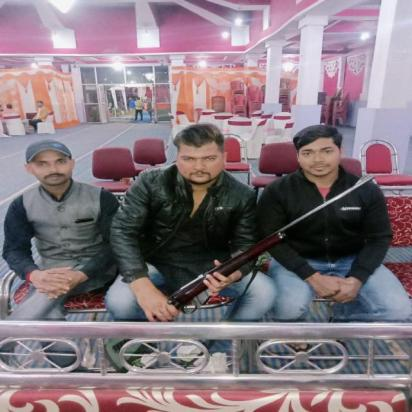Gun: (147, 170, 387, 322)
